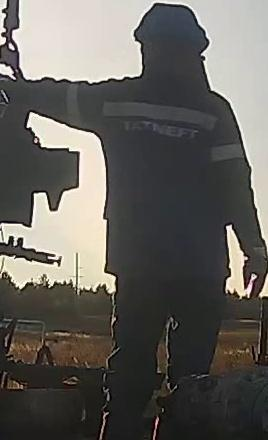gloves: (241, 232, 268, 302)
helmet: (132, 0, 211, 55)
vest: (96, 70, 241, 283)
